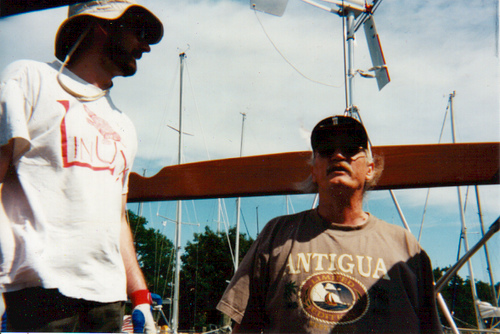without_mask: (51, 1, 166, 96), (302, 111, 391, 218)
